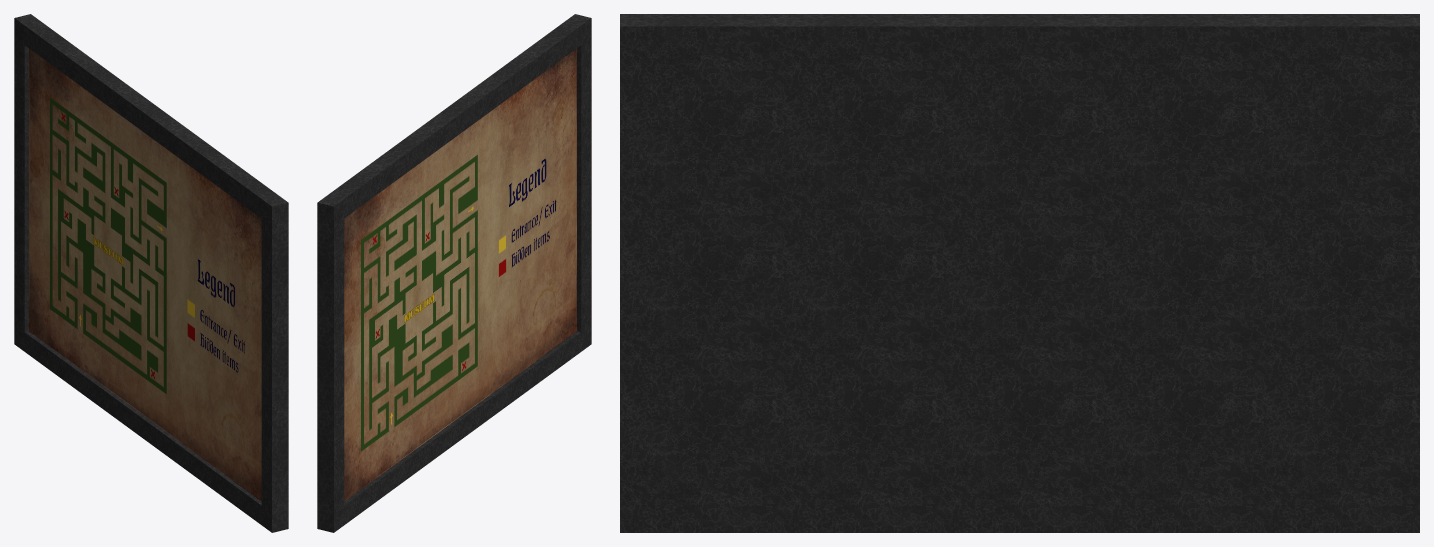
File: Legend.fbx
3 renders of one model, left to right at view 1: azimuth 30°, elevation 25°; view 2: azimuth 150°, elevation 25°; view 3: azimuth 270°, elevation 25°, orthographic. The views are drawn at different scales.
Visible parts, largest first — view 1: Legend; view 2: Legend; view 3: Legend.
Boxes of the visible parts, x1=… form: Legend: x1=14, y1=14, x2=288, y2=532; Legend: x1=317, y1=14, x2=591, y2=532; Legend: x1=620, y1=14, x2=1419, y2=532.
Bounding box in the file's own units: 0.1476 × 2.8 × 4.01.
